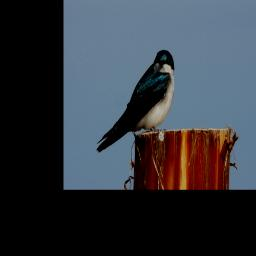Swallow: (95, 48, 175, 155)
